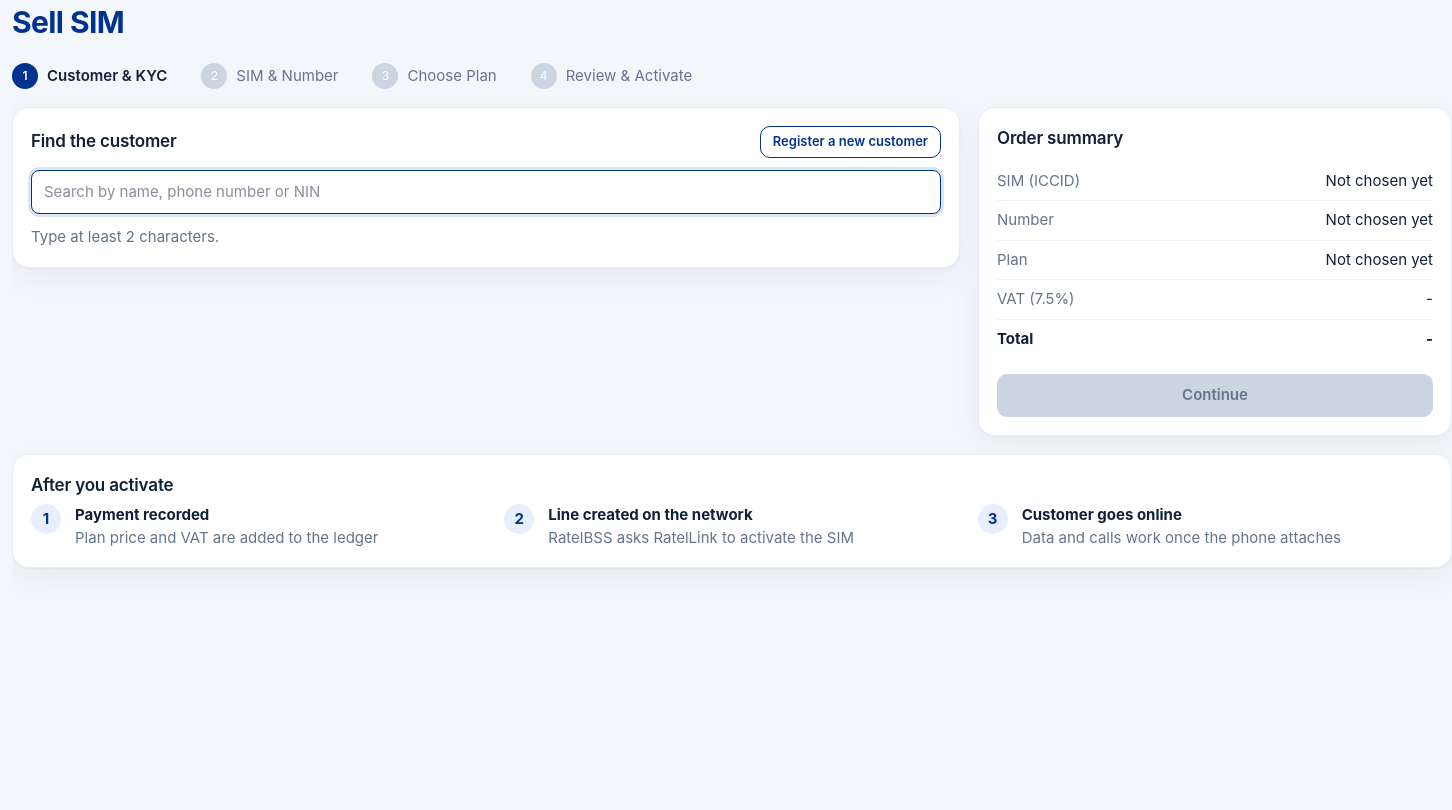
Test: Sell SIM journey (mock mode) › lets a KYC-verified customer proceed
In the field named "search customers": [486, 192] box 31,170 -> 941,214, type "fatima"
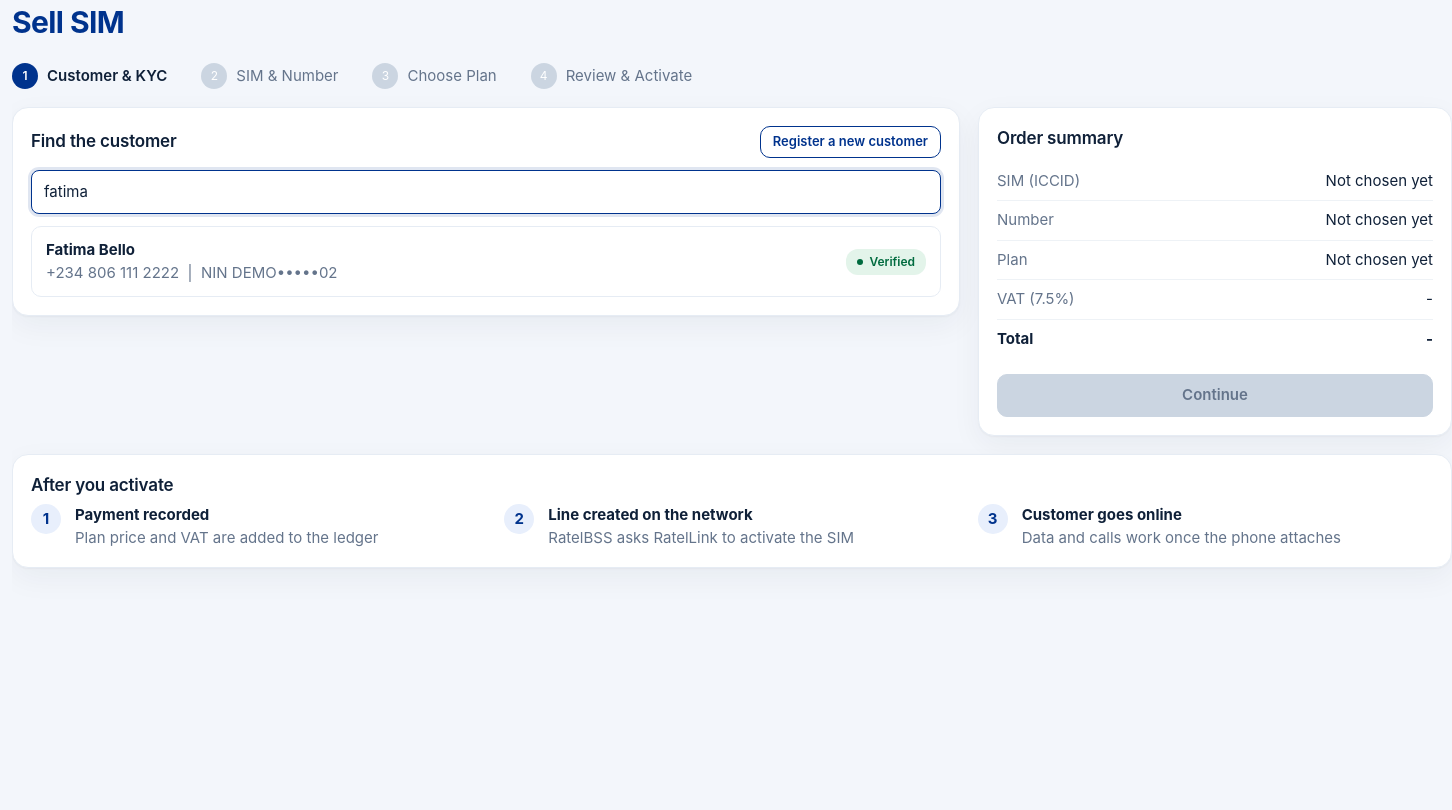
Click the button "Fatima Bello+234 806 111 2222 | NIN DEMO•••••02 Verified": [90, 250] box 31,226 -> 941,297
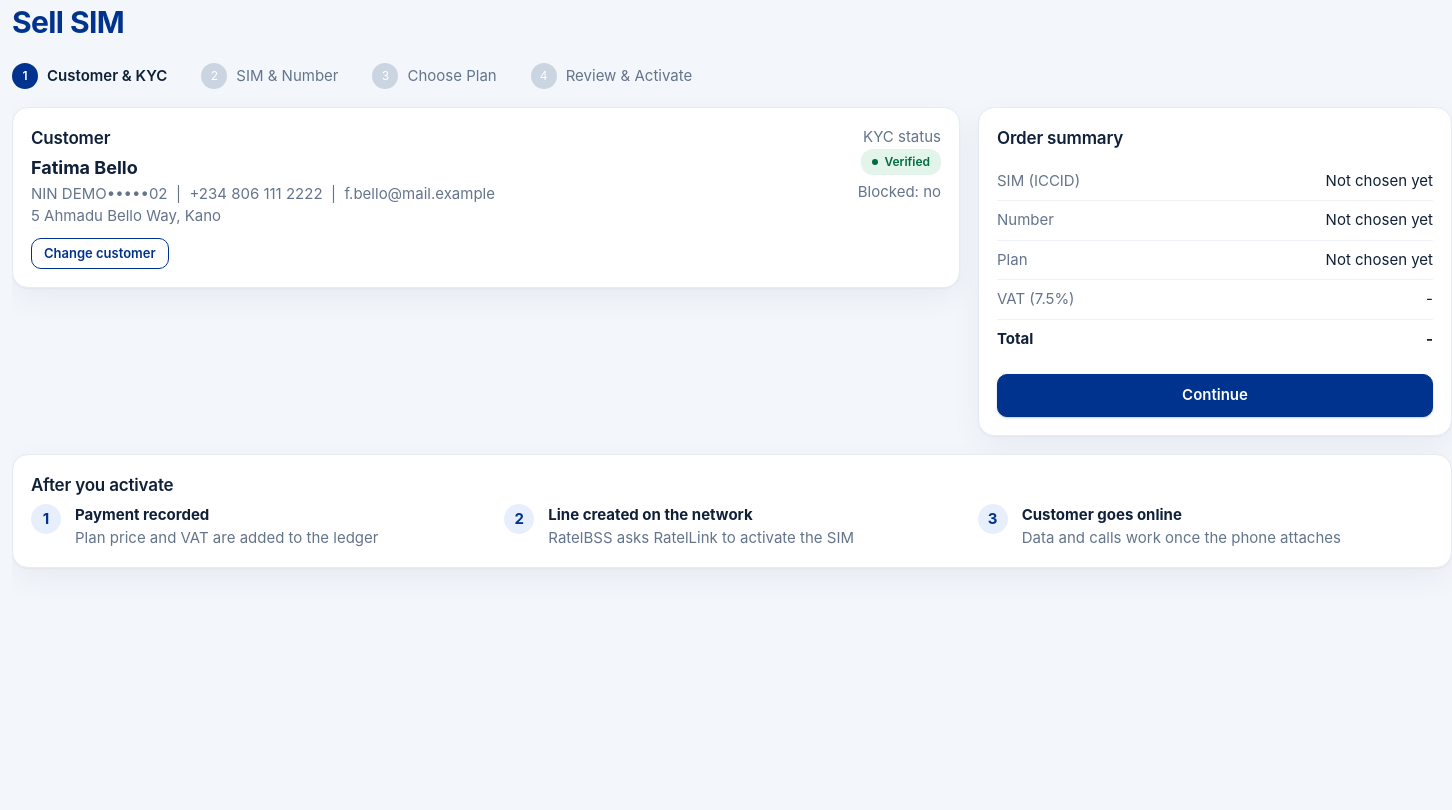
Expected: the button "Continue" is enabled, 997,374 -> 1433,416
